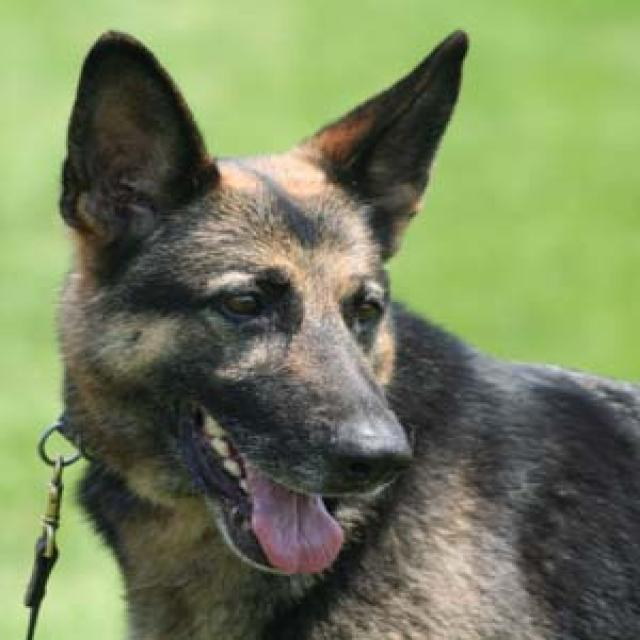Dogs: (49, 25, 638, 638)
